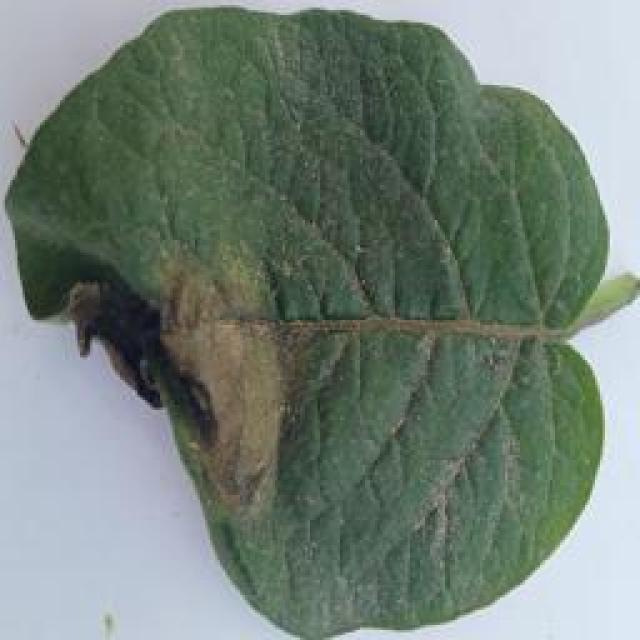Potato_Late_Blight: (5, 8, 622, 636)
